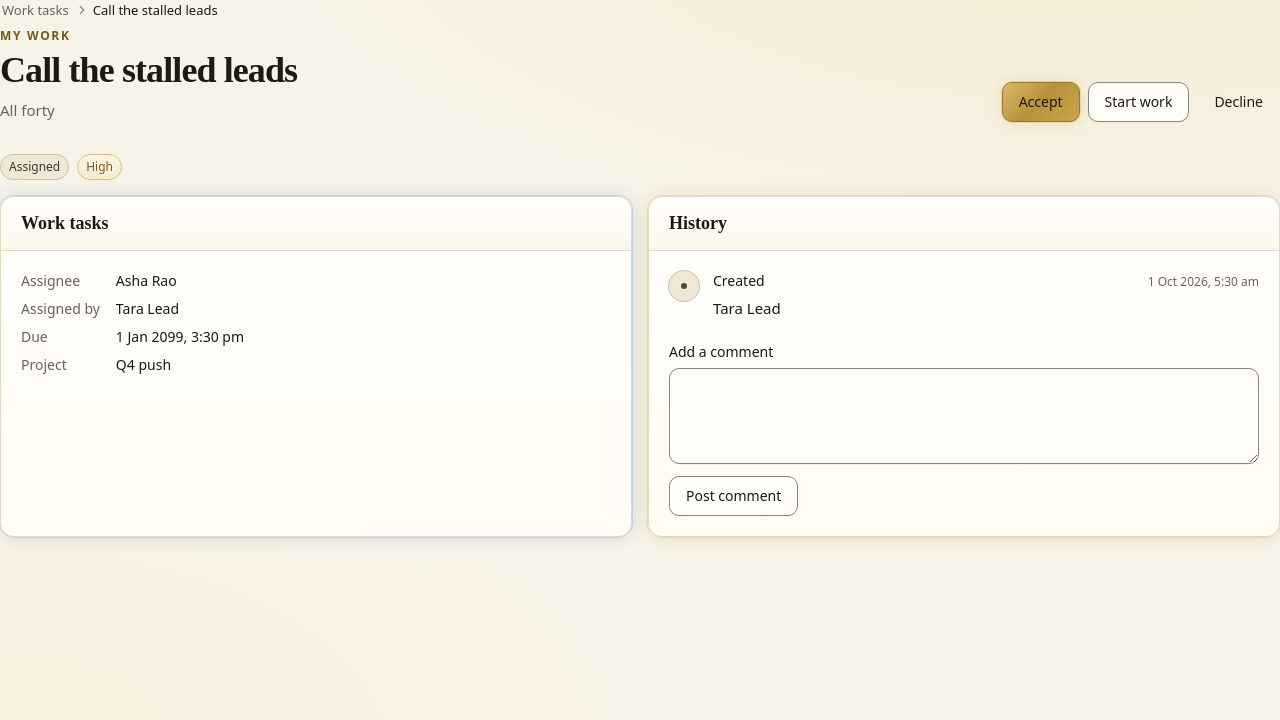
Test case: TaskDetailPage › the assignee accepts with the current version
Click the button "Accept".
click(1041, 102)  # box [1002, 82, 1080, 122]
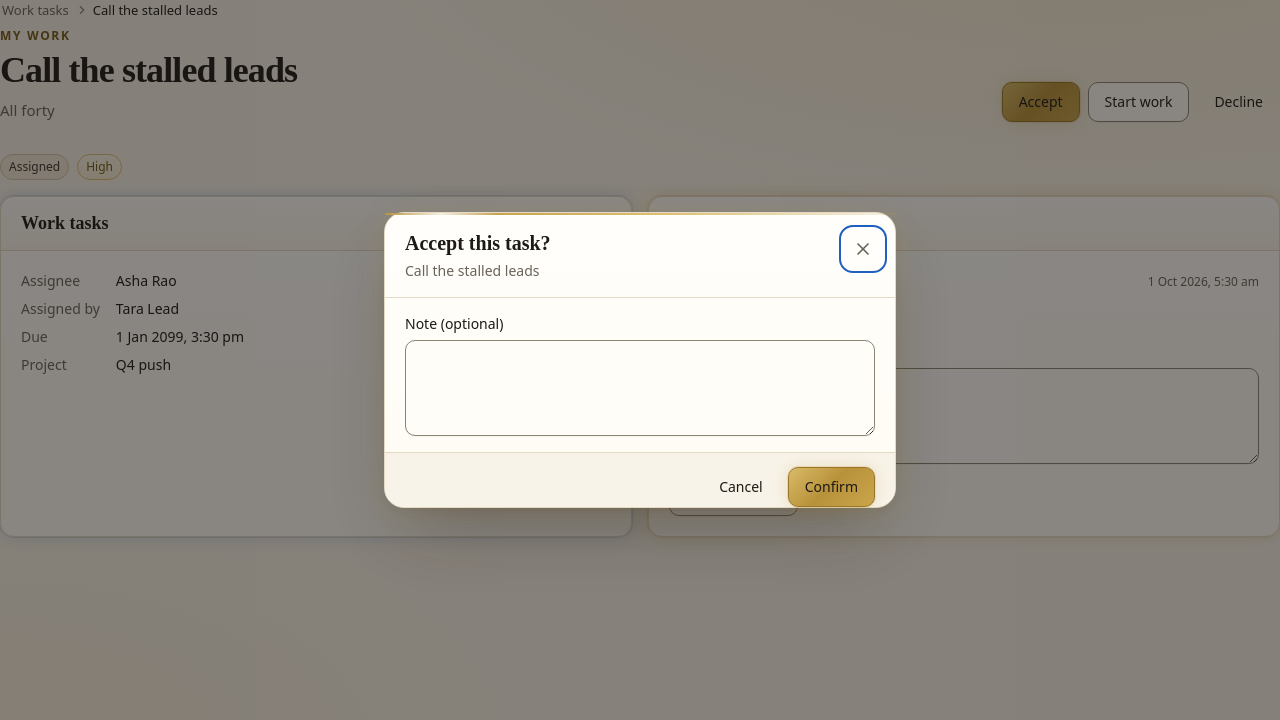
Click the button "Confirm".
click(831, 487)  # box [788, 467, 875, 507]
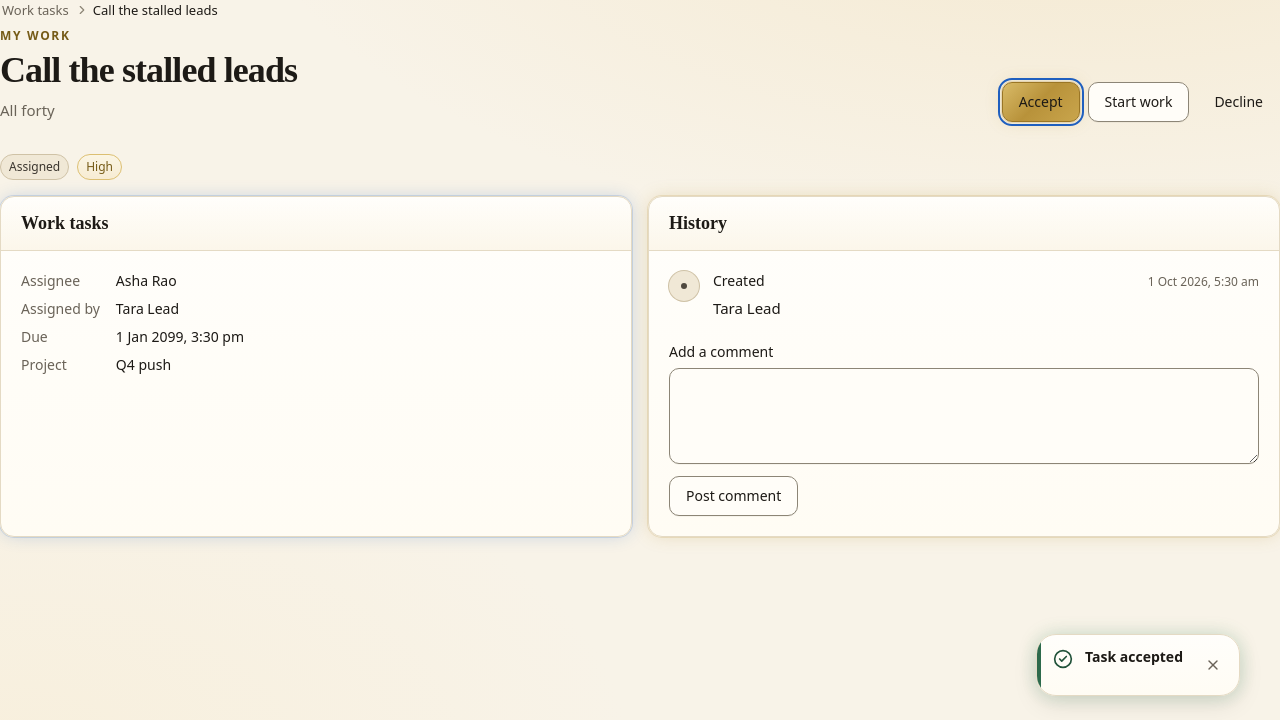
Now the text "Task accepted" is shown, box [1085, 647, 1183, 667]
